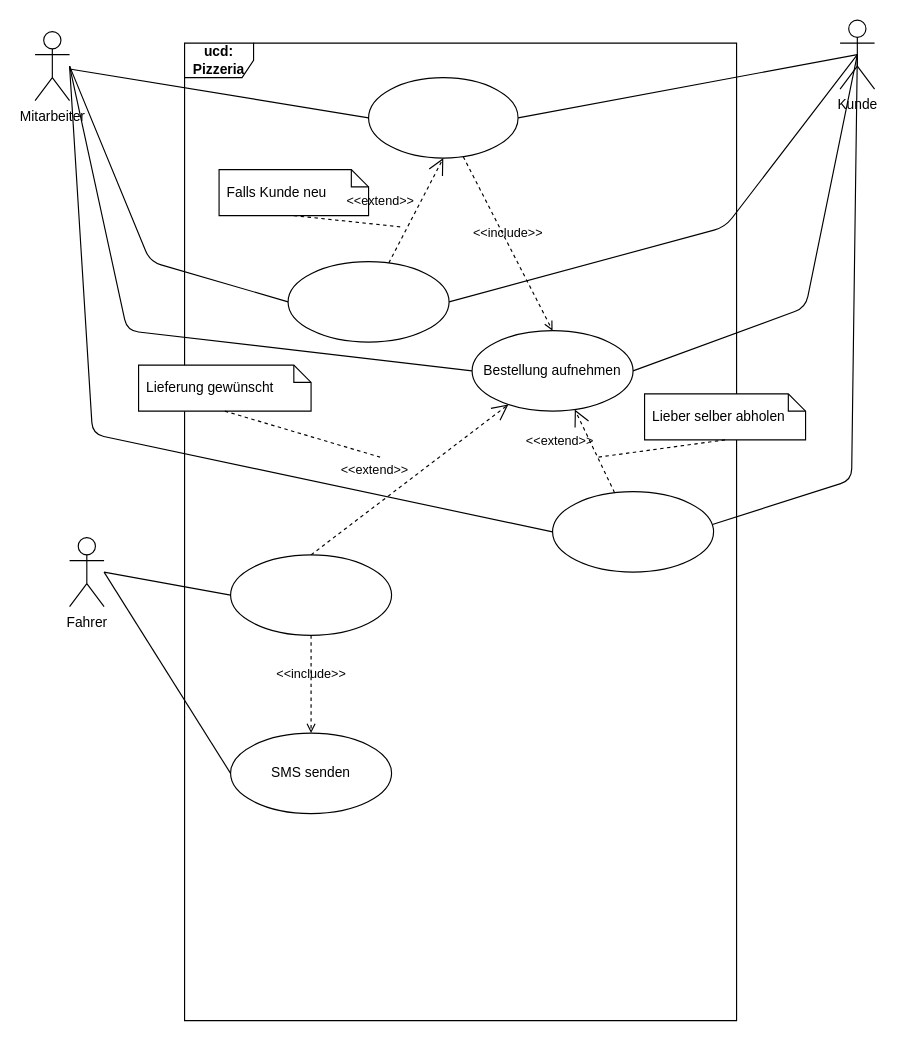
The diagram is 897 pixels wide and 1041 high, and some of its shapes have lost their labels. The centre of each missing label's shape, as x and y in pixels:
"Ausliefern" goes at point (310, 594).
"Bestellanruf" goes at point (442, 117).
"Kundendaten erfassen" goes at point (368, 301).
"Selbstabholung" goes at point (632, 531).
